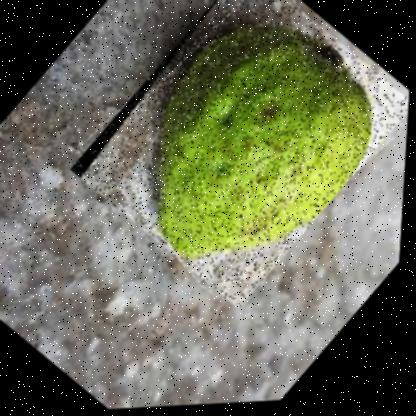guava: (63, 0, 415, 319)
